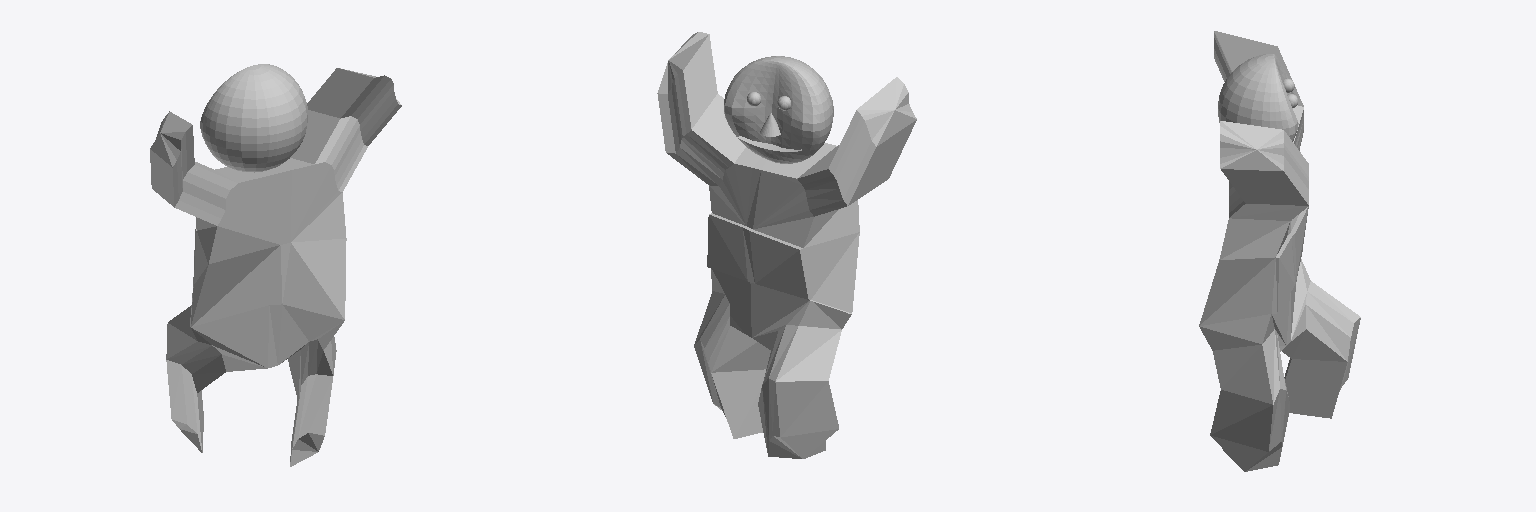
Rendered from man_000017.obj.
3 renders of one model, left to right at view 1: azimuth 30°, elevation 25°; view 2: azimuth 150°, elevation 25°; view 3: azimuth 270°, elevation 25°, orthographic.
Visible parts, largest first — view 1: Cube; view 2: Cube; view 3: Cube.
Part boxes in pixels (x1,y1,x2,y2): Cube: (150, 64, 401, 466); Cube: (657, 32, 916, 458); Cube: (1199, 31, 1360, 471).
Size of the model in its own units: 79.08 by 126 by 47.73.